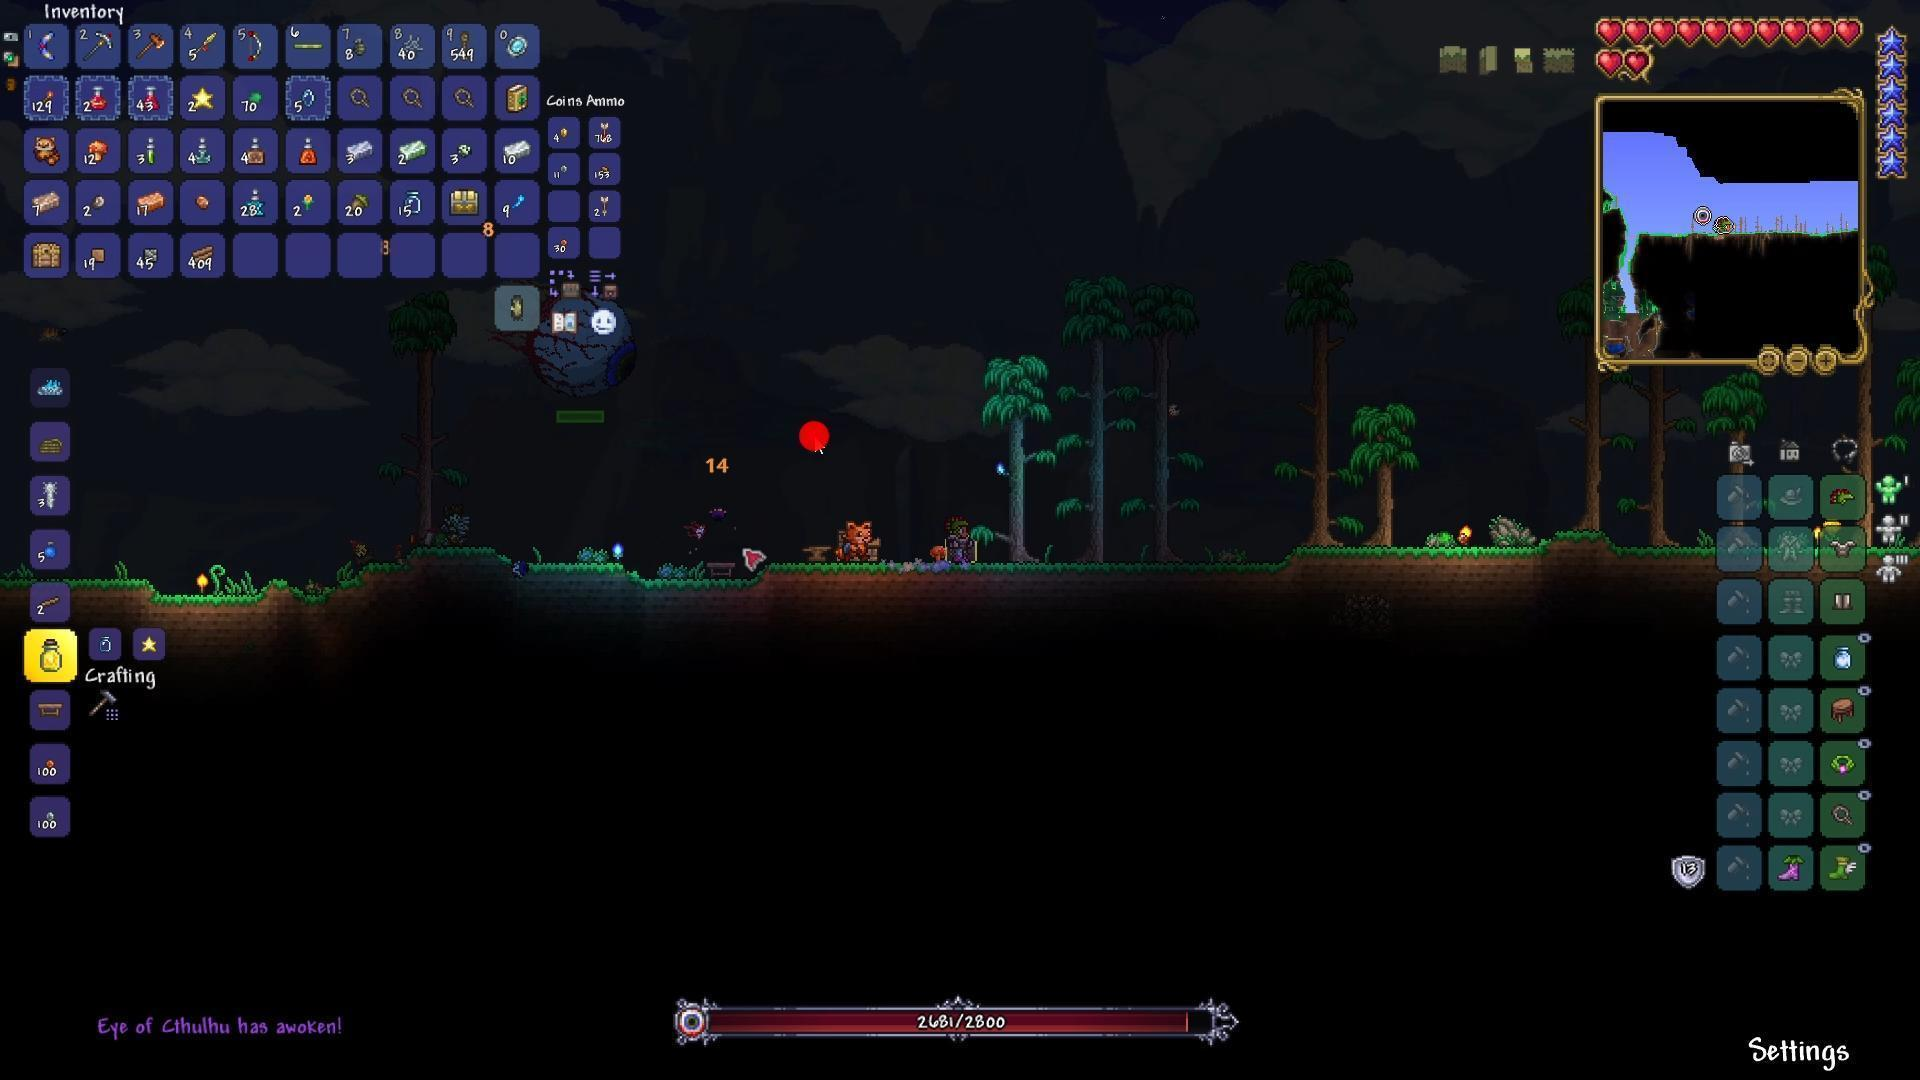anvil: (800, 531, 835, 571)
breastplate: (1829, 535, 1858, 560)
cobwebI: (398, 33, 425, 54)
eyeC: (516, 272, 663, 430)
legs: (1829, 592, 1855, 613)
lens: (301, 84, 320, 112)
wood: (191, 240, 219, 268)
